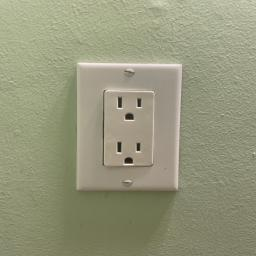outlet: (72, 60, 183, 195)
